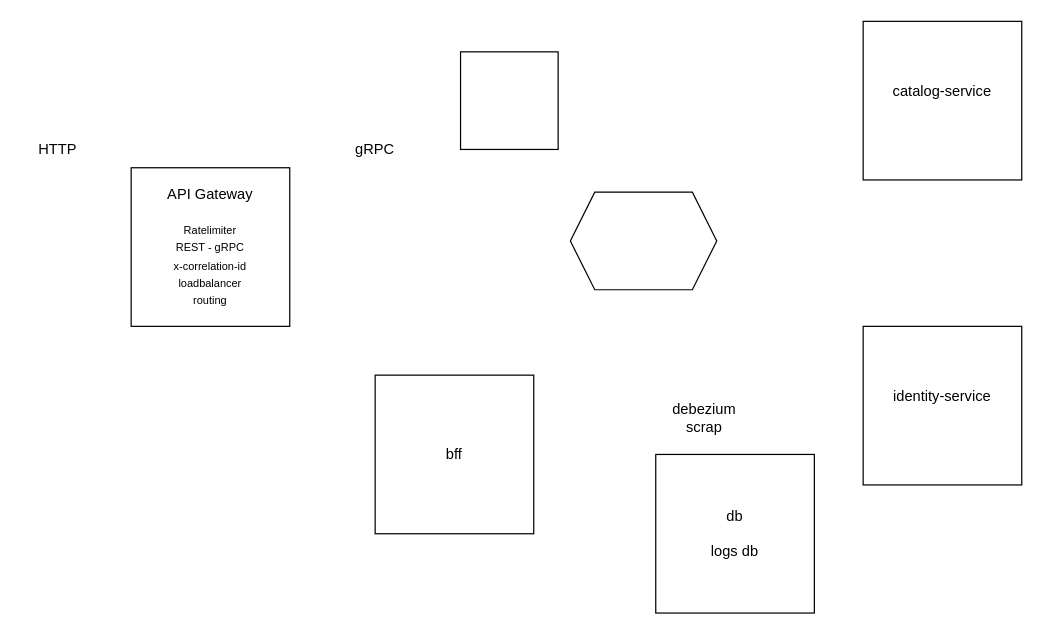
Image size: 1043x634. Some labels were removed from this diagram. Here are the shapes that lost their labels. From the top down, the centre of each, then its label:
At (x=508, y=100): "loki - grafana".
At (x=643, y=240): "KAFKA event bus".
